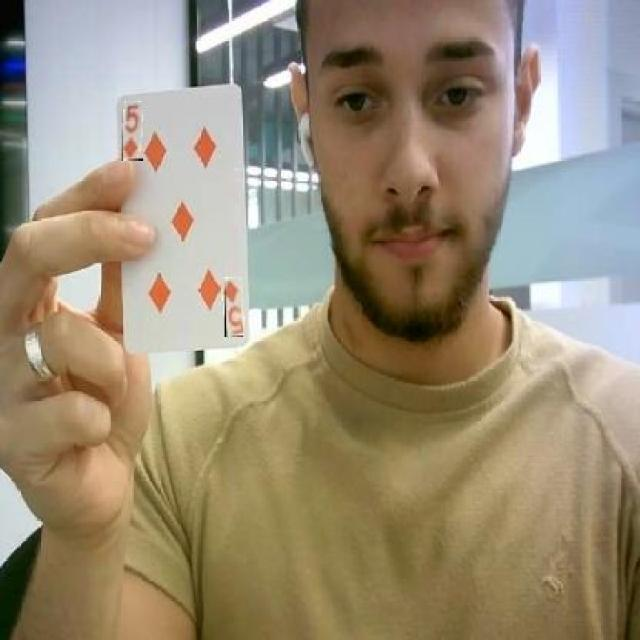5D: (122, 102, 143, 160), (225, 278, 243, 337)
